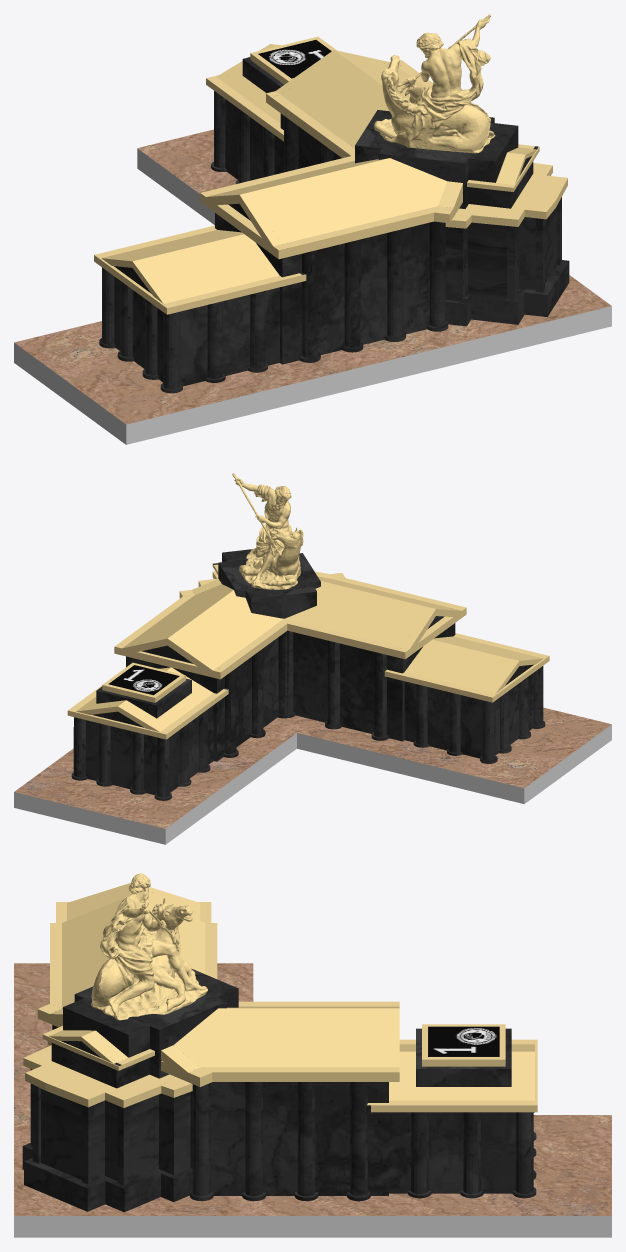
File: buildingTemploNeptuno.glb
3 renders of one model, top to bottom at view 1: azimuth 30°, elevation 25°; view 2: azimuth 150°, elevation 25°; view 3: azimuth 270°, elevation 25°, orthographic. The views are drawn at different scales.
Parts seen in each view (by area): view 1: TemploNeptuno; view 2: TemploNeptuno; view 3: TemploNeptuno.
Part boxes in pixels (bbox=[...]): TemploNeptuno: bbox=[14, 14, 611, 444]; TemploNeptuno: bbox=[14, 473, 611, 844]; TemploNeptuno: bbox=[14, 873, 611, 1237].
Bounding box in the file's own units: 5 × 2.78 × 5.
Materials: 5 (3 with a texture image).
